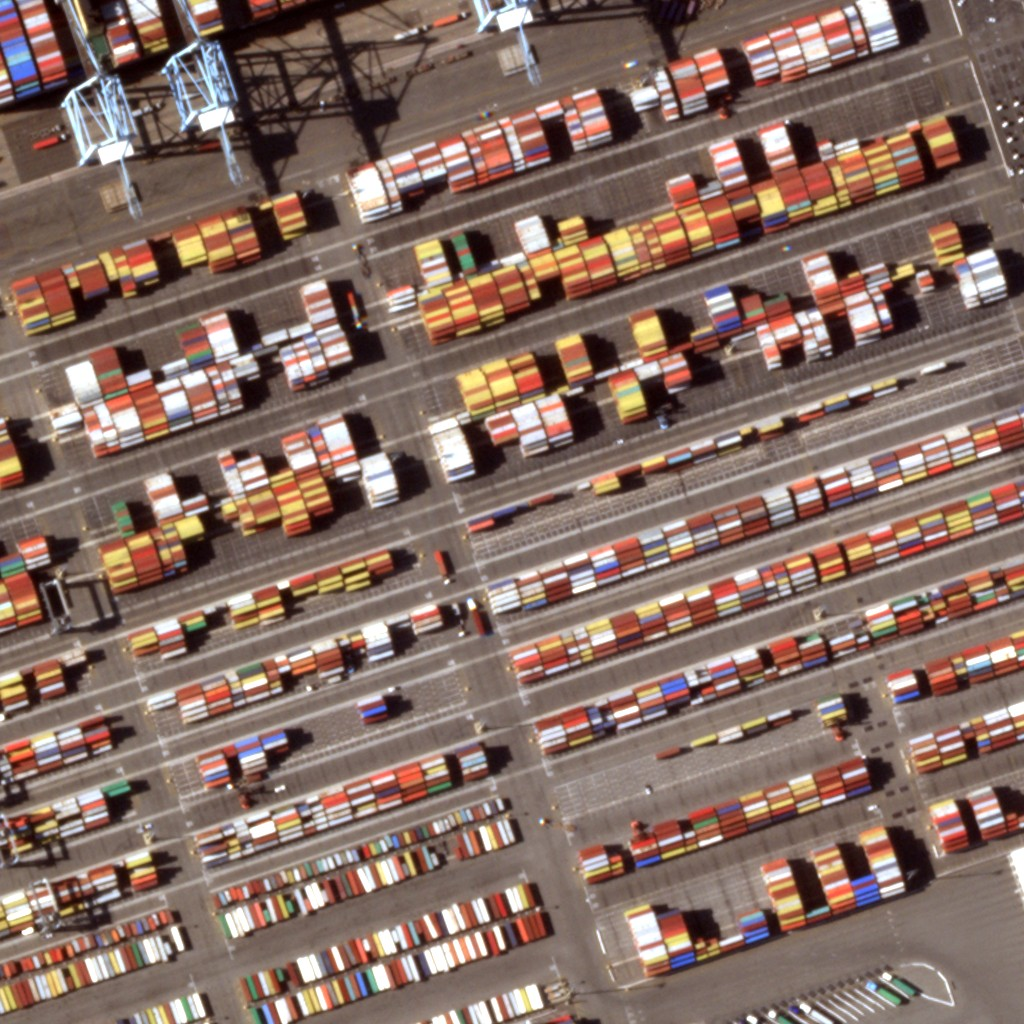cranes: (58, 41, 141, 190), (162, 33, 253, 136)
